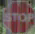Stop: (3, 3, 34, 31)
